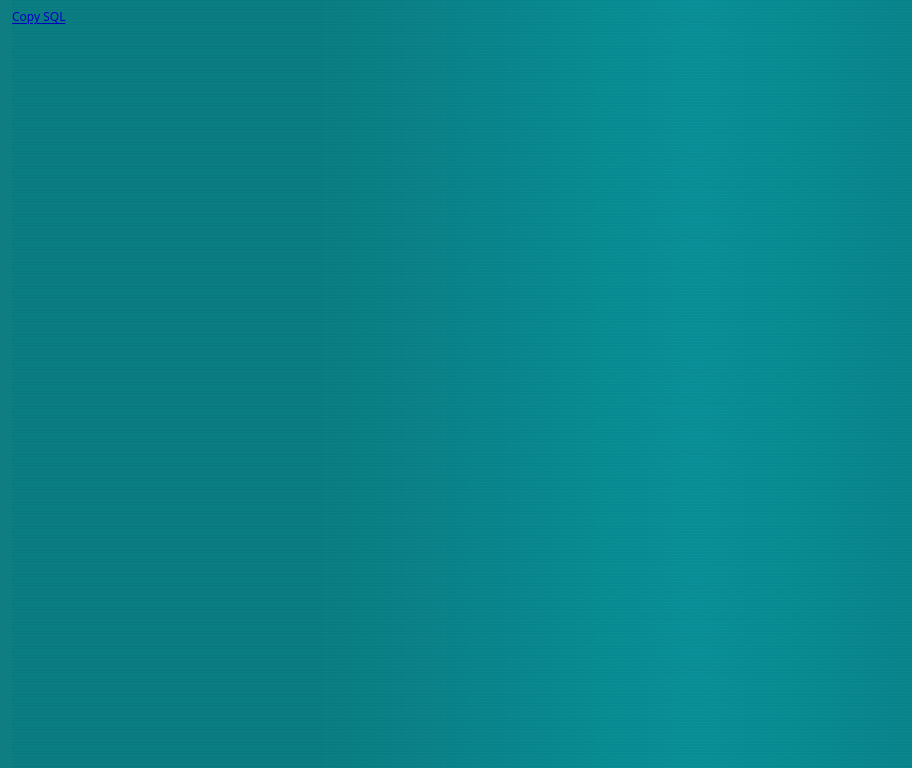
Scenario: copy SQL › copies the exact current SQL after an explicit click
This screenshot has width=912, height=768.
Click the button "Copy SQL" at (39, 17), box left=12, top=6, right=66, bottom=27
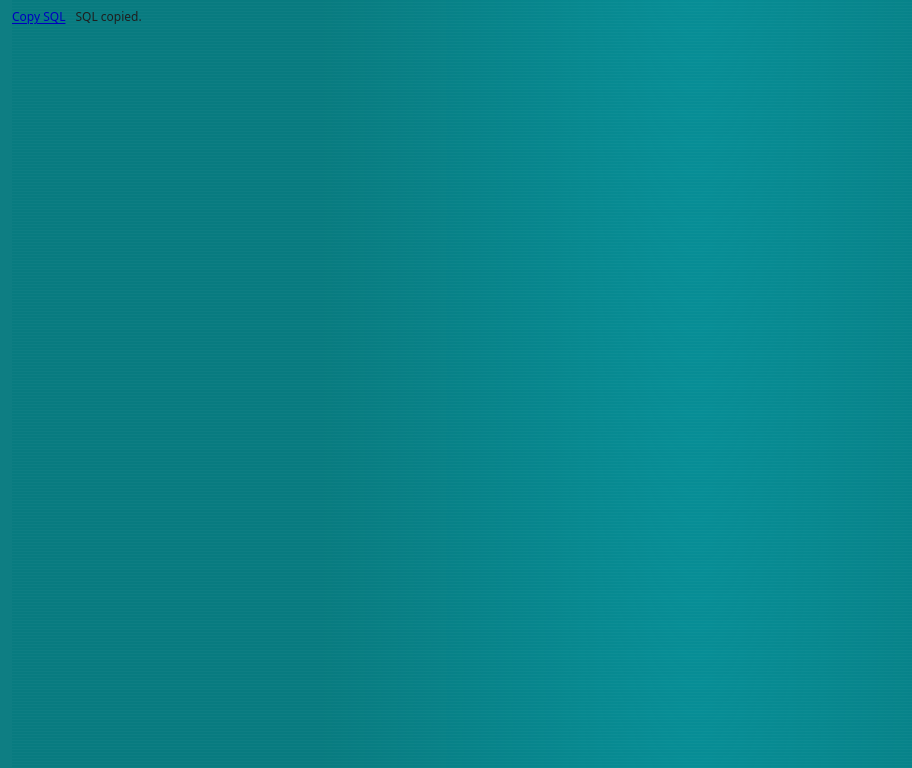
Expected: the text "SQL copied." is shown, left=76, top=8, right=142, bottom=25
